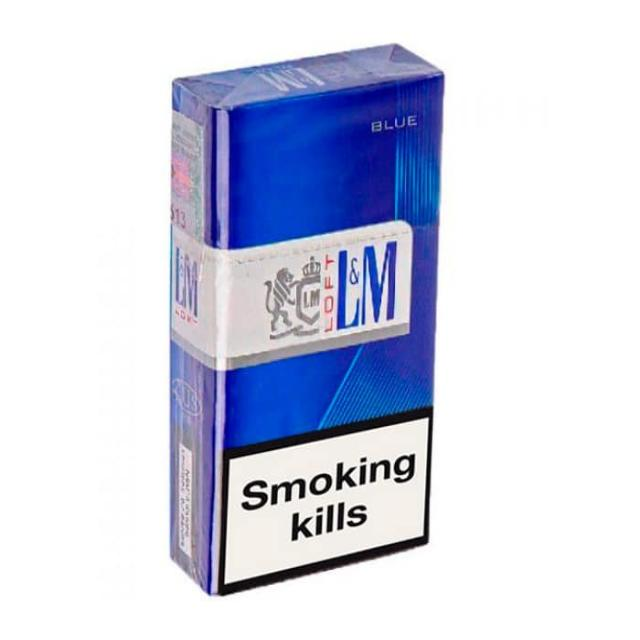lm: (156, 39, 444, 592)
